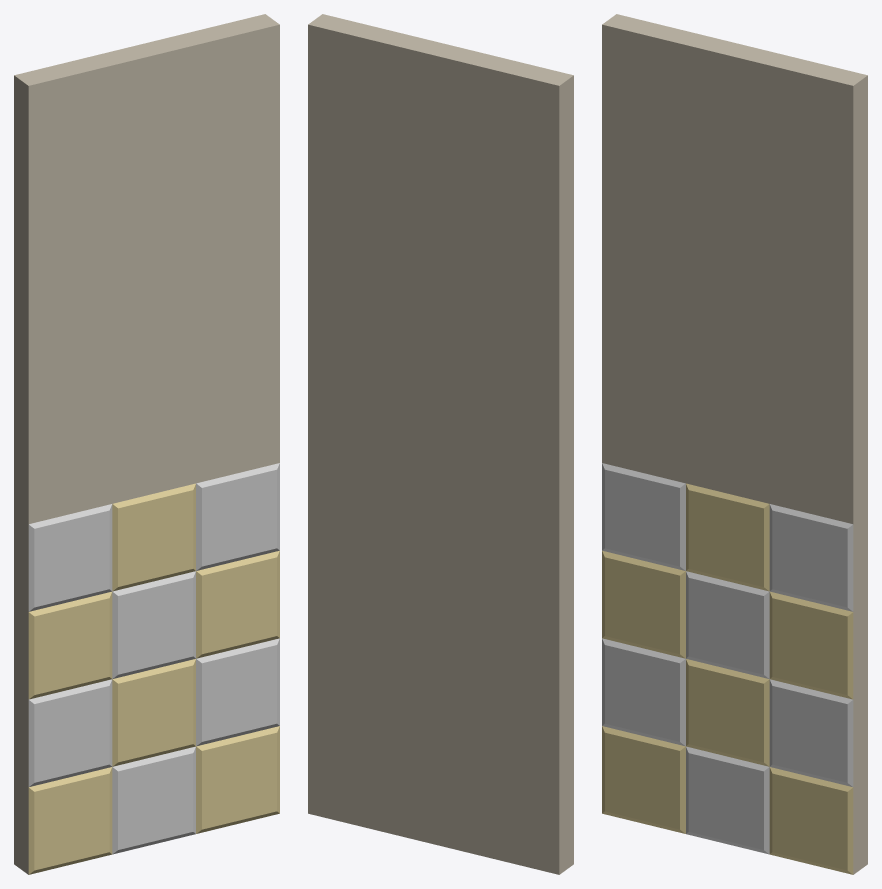
The model's file is Mesh_WallHalfCeramic_J2.fbx.
3 renders of one model, left to right at view 1: azimuth 30°, elevation 25°; view 2: azimuth 150°, elevation 25°; view 3: azimuth 330°, elevation 25°, orthographic.
Visible parts, largest first — view 1: Mesh_WallHalfCeramic_J2; view 2: Mesh_WallHalfCeramic_J2; view 3: Mesh_WallHalfCeramic_J2.
Boxes of the visible parts, x1=… form: Mesh_WallHalfCeramic_J2: x1=14, y1=14, x2=279, y2=874; Mesh_WallHalfCeramic_J2: x1=308, y1=14, x2=573, y2=874; Mesh_WallHalfCeramic_J2: x1=602, y1=14, x2=867, y2=874.
Bounding box in the file's own units: 1 × 3 × 0.1104.
